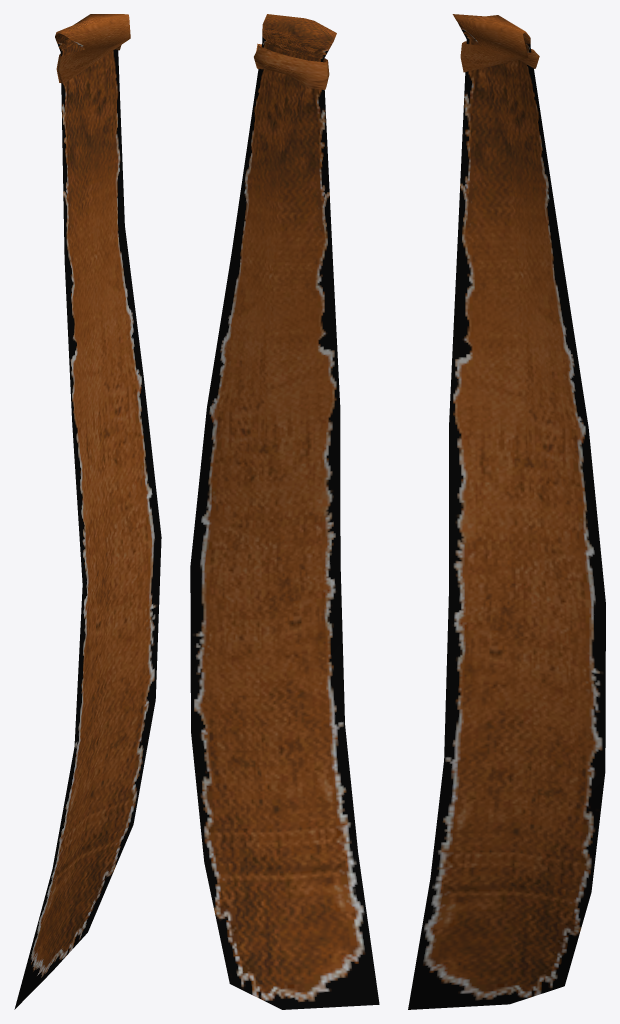
Rendered from fxanim_gp_streamer_long_orange_mod_lod0.glb.
3 renders of one model, left to right at view 1: azimuth 30°, elevation 25°; view 2: azimuth 150°, elevation 25°; view 3: azimuth 330°, elevation 25°, orthographic. The views are drawn at different scales.
Visible parts, largest first — view 1: surf0; view 2: surf0; view 3: surf0.
Boxes of the visible parts, left/top/right/bottom form: surf0: left=14, top=14, right=161, bottom=1009; surf0: left=190, top=14, right=379, bottom=1009; surf0: left=408, top=14, right=605, bottom=1009.
Bounding box in the file's own units: 3.45 × 19.05 × 1.88.
